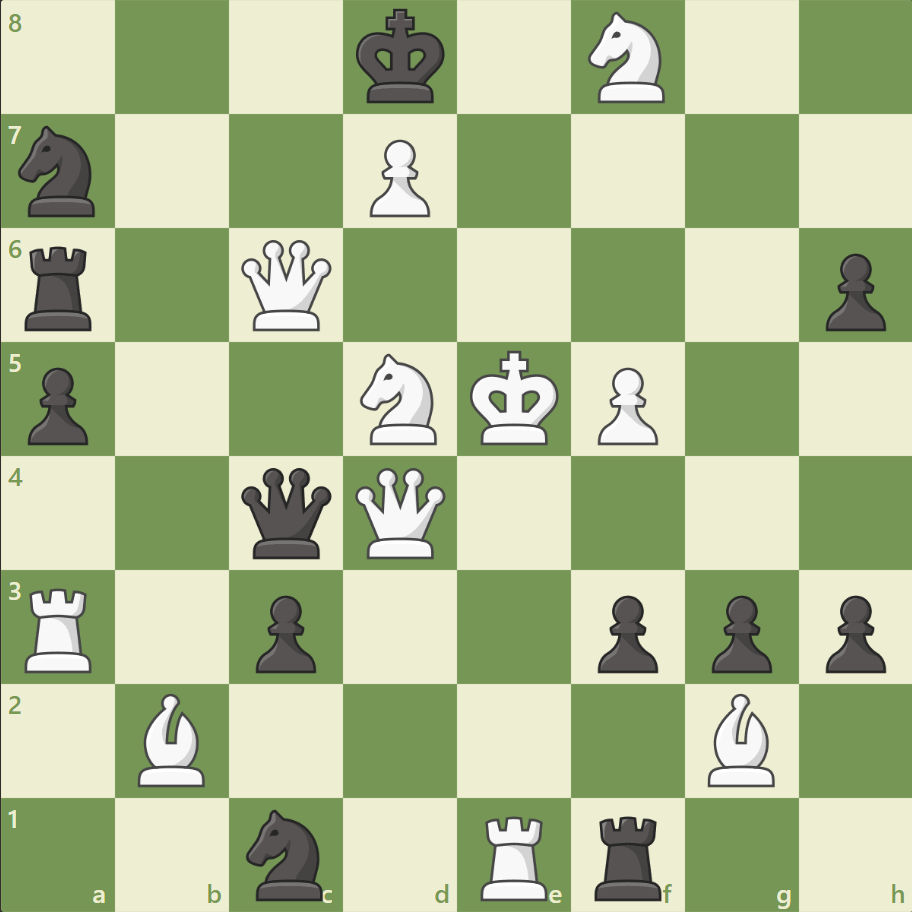B: (131, 687, 215, 790), (698, 687, 782, 790)
K: (465, 344, 565, 452)
N: (351, 348, 449, 450), (579, 7, 676, 110)
P: (361, 132, 435, 223), (588, 359, 662, 450)
Q: (237, 236, 336, 335), (351, 463, 450, 562)
R: (473, 806, 556, 904), (19, 579, 102, 676)
k: (351, 4, 451, 112)
n: (11, 121, 108, 223), (238, 802, 335, 904)
p: (20, 359, 95, 450), (247, 586, 322, 677), (701, 586, 776, 677), (815, 246, 889, 337), (588, 586, 662, 677), (815, 586, 889, 677)
q: (237, 463, 336, 562)
r: (587, 806, 670, 904), (19, 239, 102, 336)
